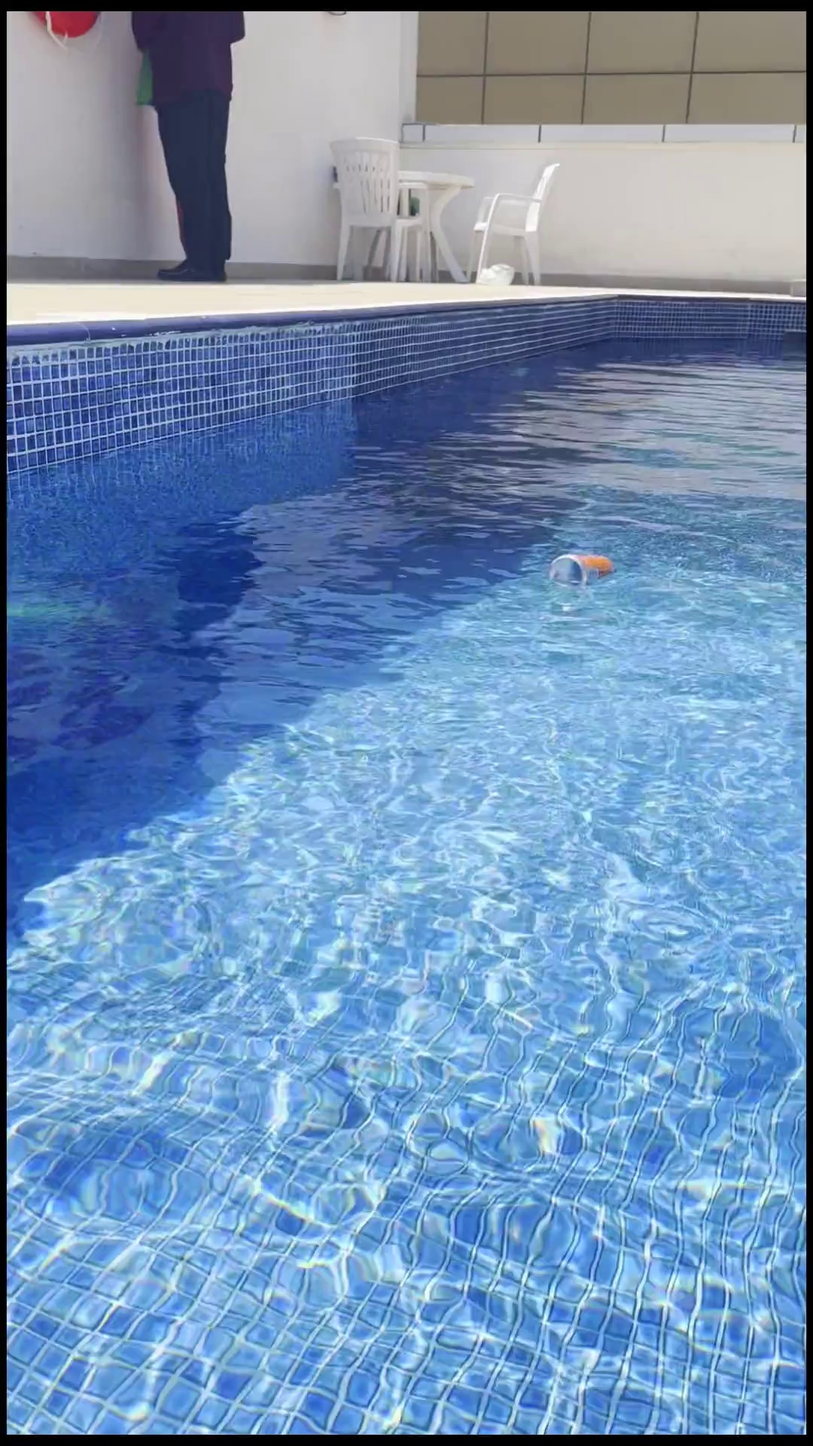debris: (546, 543, 618, 618)
